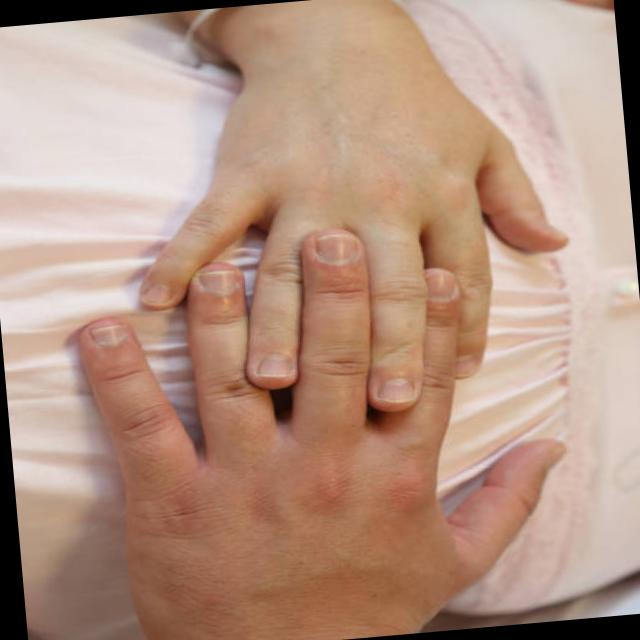Nail: (313, 233, 357, 265), (195, 270, 240, 295), (86, 323, 128, 349), (255, 352, 291, 377), (425, 269, 453, 301), (375, 379, 413, 402), (139, 285, 170, 307), (455, 355, 479, 377)
